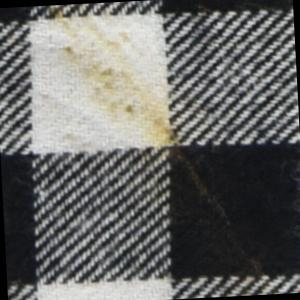Oil Stain: (39, 1, 284, 300)
